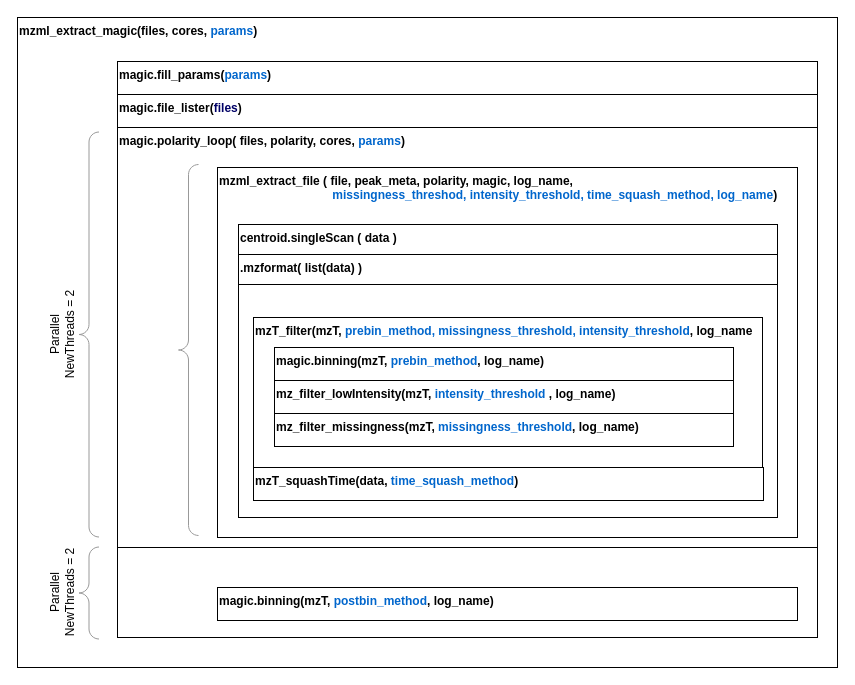
Image size: 855x685. Some labels were removed from this diagram. Each missing label, with the box of its shape:
if(magic): (238, 284, 778, 518)
magic.polarity_final( files, polarity, cores, params ): (116, 546, 818, 638)
Parallel* NewThreads = cores / 2: (178, 164, 198, 536)
